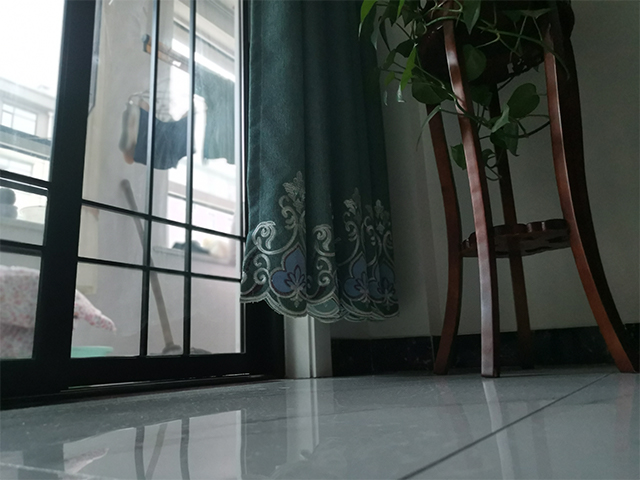curtain: (237, 1, 405, 326)
